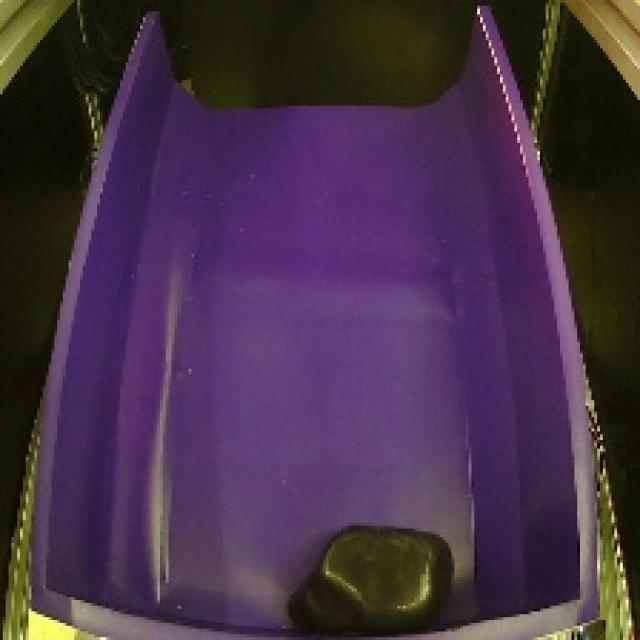cobbles: (281, 520, 473, 640)
